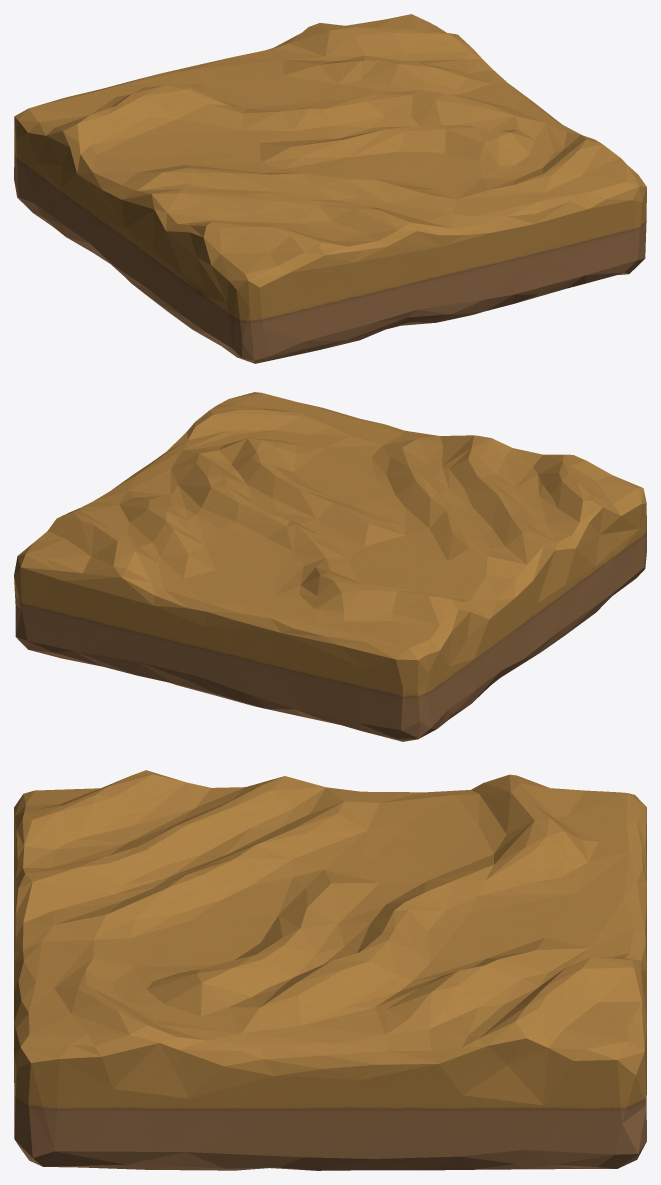
Rendered from sand_tile_source.glb.
The picture shows the model from 3 angles, top to bottom: view 1: azimuth 30°, elevation 25°; view 2: azimuth 150°, elevation 25°; view 3: azimuth 270°, elevation 25°; orthographic projection. The views are drawn at different scales.
Visible parts, largest first — view 1: world; view 2: world; view 3: world.
Boxes of the visible parts, <box> form: world: <box>14,14,646,363</box>; world: <box>14,392,646,741</box>; world: <box>14,770,646,1170</box>.
Bounding box in the file's own units: 1 × 0.2697 × 0.9985.
1 material, 1 textured.
